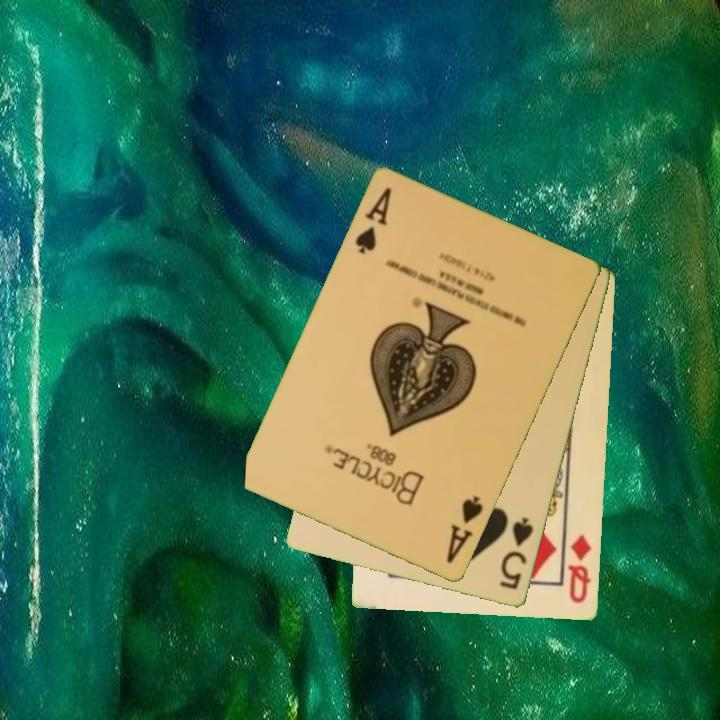5s: (496, 514, 537, 593)
As: (443, 492, 487, 567), (351, 184, 395, 258)
Qd: (565, 531, 594, 607)
